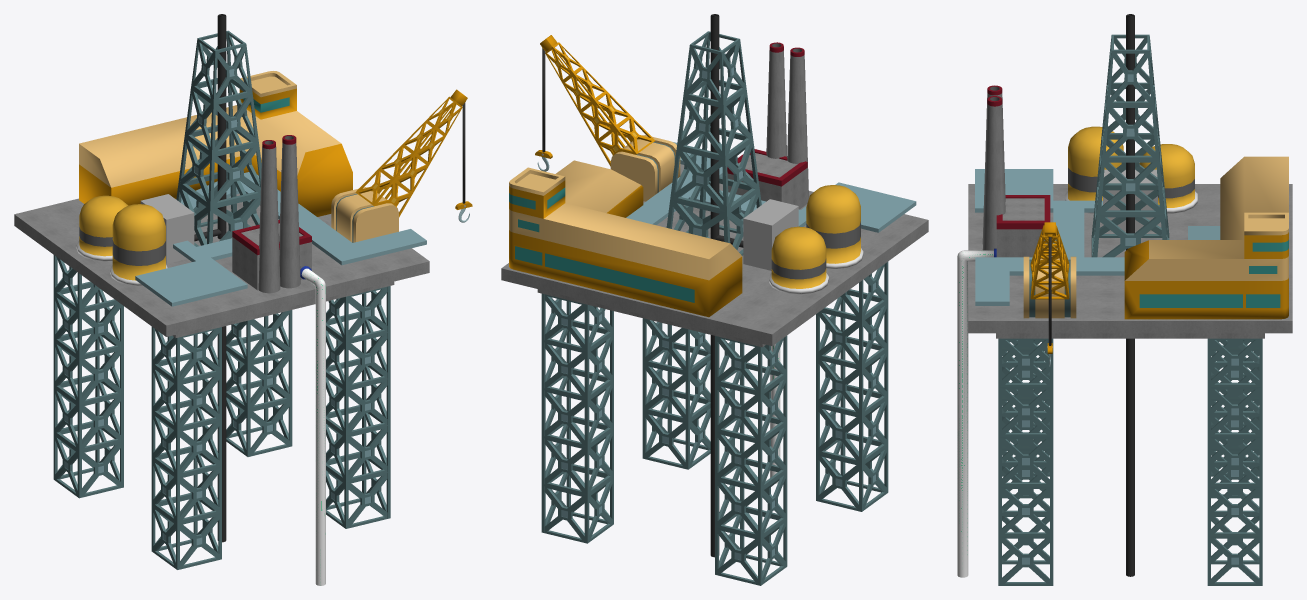
Rendered from OilRig.fbx.
3 renders of one model, left to right at view 1: azimuth 30°, elevation 25°; view 2: azimuth 150°, elevation 25°; view 3: azimuth 270°, elevation 25°, orthographic. The views are drawn at different scales.
Parts seen in each view (by area): view 1: Plane.001, Cube.005, Cube.003, Plane.002, Cube.008, Cylinder.001, Elbow Joint, Plane.003, Cylinder.004, Cylinder.003, Cylinder, Cube.009 (+3 smaller); view 2: Plane.001, Cube.005, Cube.003, Plane.002, Cylinder.001, Plane.003, Cube.008, Cylinder.002, Cube.009, Cylinder, Cube.007, Cube.006 (+2 smaller); view 3: Plane.001, Cube.005, Cube.003, Plane.002, Cube.008, Elbow Joint, Cylinder, Cube.007, Cylinder.003, Cylinder.001, Cylinder.002, Cube.009 (+2 smaller).
Part boxes in pixels (bbox=[...]): Plane.001: bbox=[53, 255, 390, 569]; Cube.005: bbox=[79, 71, 352, 216]; Cube.003: bbox=[14, 193, 429, 337]; Plane.002: bbox=[176, 30, 261, 246]; Cube.008: bbox=[135, 172, 426, 306]; Cylinder.001: bbox=[110, 204, 167, 285]; Elbow Joint: bbox=[300, 266, 325, 585]; Plane.003: bbox=[355, 96, 462, 217]; Cylinder.004: bbox=[258, 140, 280, 293]; Cylinder.003: bbox=[279, 135, 300, 288]; Cylinder: bbox=[217, 14, 226, 542]; Cube.009: bbox=[331, 187, 398, 242]; Plane.001: bbox=[541, 261, 888, 585]; Cube.005: bbox=[509, 160, 742, 317]; Cube.003: bbox=[501, 164, 928, 347]; Plane.002: bbox=[666, 31, 761, 255]; Cylinder.001: bbox=[806, 185, 863, 268]; Plane.003: bbox=[545, 42, 655, 166]; Cube.008: bbox=[626, 142, 916, 232]; Cylinder.002: bbox=[769, 226, 828, 294]; Cube.009: bbox=[610, 135, 680, 201]; Cylinder: bbox=[710, 14, 719, 557]; Cube.007: bbox=[727, 149, 807, 209]; Cube.006: bbox=[743, 199, 798, 270]; Plane.001: bbox=[998, 338, 1262, 585]; Cube.005: bbox=[1124, 156, 1288, 319]; Cube.003: bbox=[968, 184, 1292, 338]; Plane.002: bbox=[1091, 34, 1169, 257]; Cube.008: bbox=[975, 169, 1220, 305]; Elbow Joint: bbox=[957, 248, 996, 577]; Cylinder: bbox=[1126, 14, 1134, 576]; Cube.007: bbox=[996, 195, 1050, 257]; Cylinder.003: bbox=[982, 96, 1005, 250]; Cylinder.001: bbox=[1065, 126, 1123, 213]; Cylinder.002: bbox=[1139, 144, 1197, 213]; Cube.009: bbox=[1023, 256, 1076, 318].
Size of the model in its own units: 2.61 by 2.07 by 3.81.
